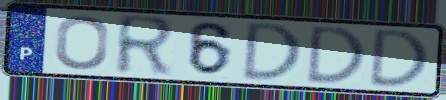6: (185, 21, 235, 79)
D: (240, 20, 305, 83), (367, 27, 432, 89), (304, 24, 369, 86)
O: (53, 14, 112, 71)
R: (113, 12, 179, 79)
